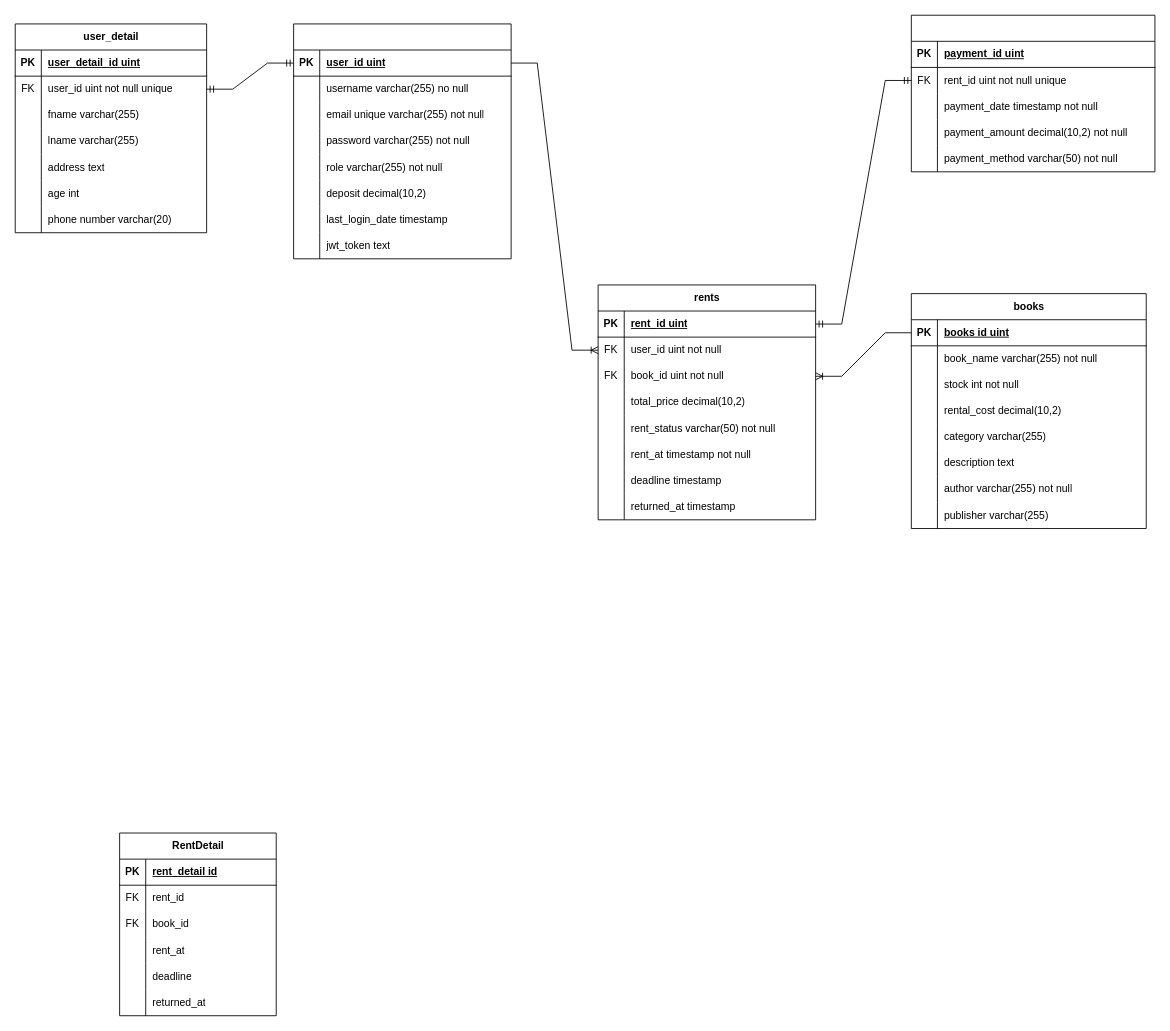
Image size: 1170x1031. Some labels were removed from this diagram. Each missing label, with the box of its shape:
payments: (910, 14, 1155, 172)
users: (293, 23, 511, 259)
